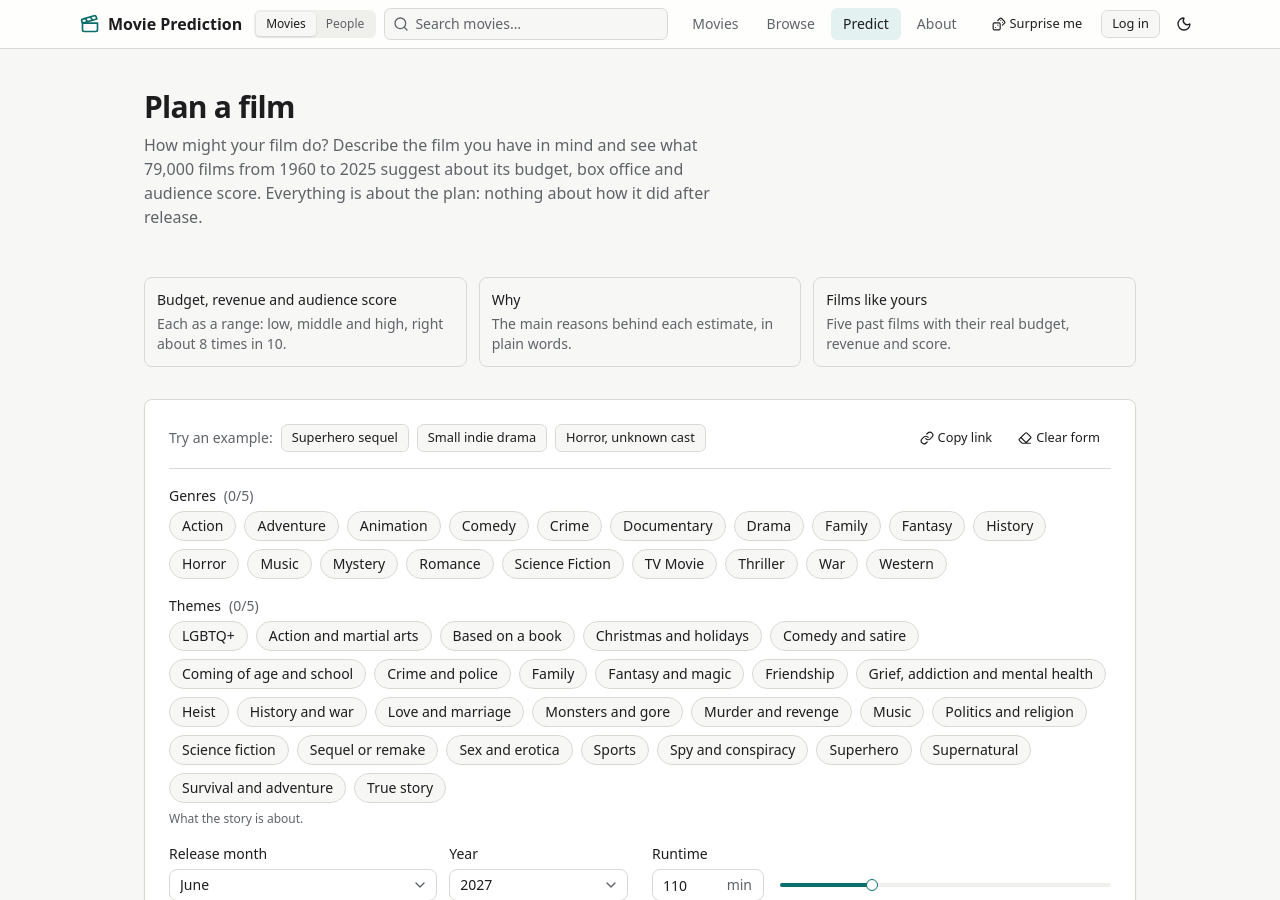
examples › "Small indie drama" fills the form, and submitting sends its body and opens the result
The width and height of the screenshot is (1280, 900).
Click the button "Small indie drama": (482, 438) [417,424,547,452]
(page scrolled)
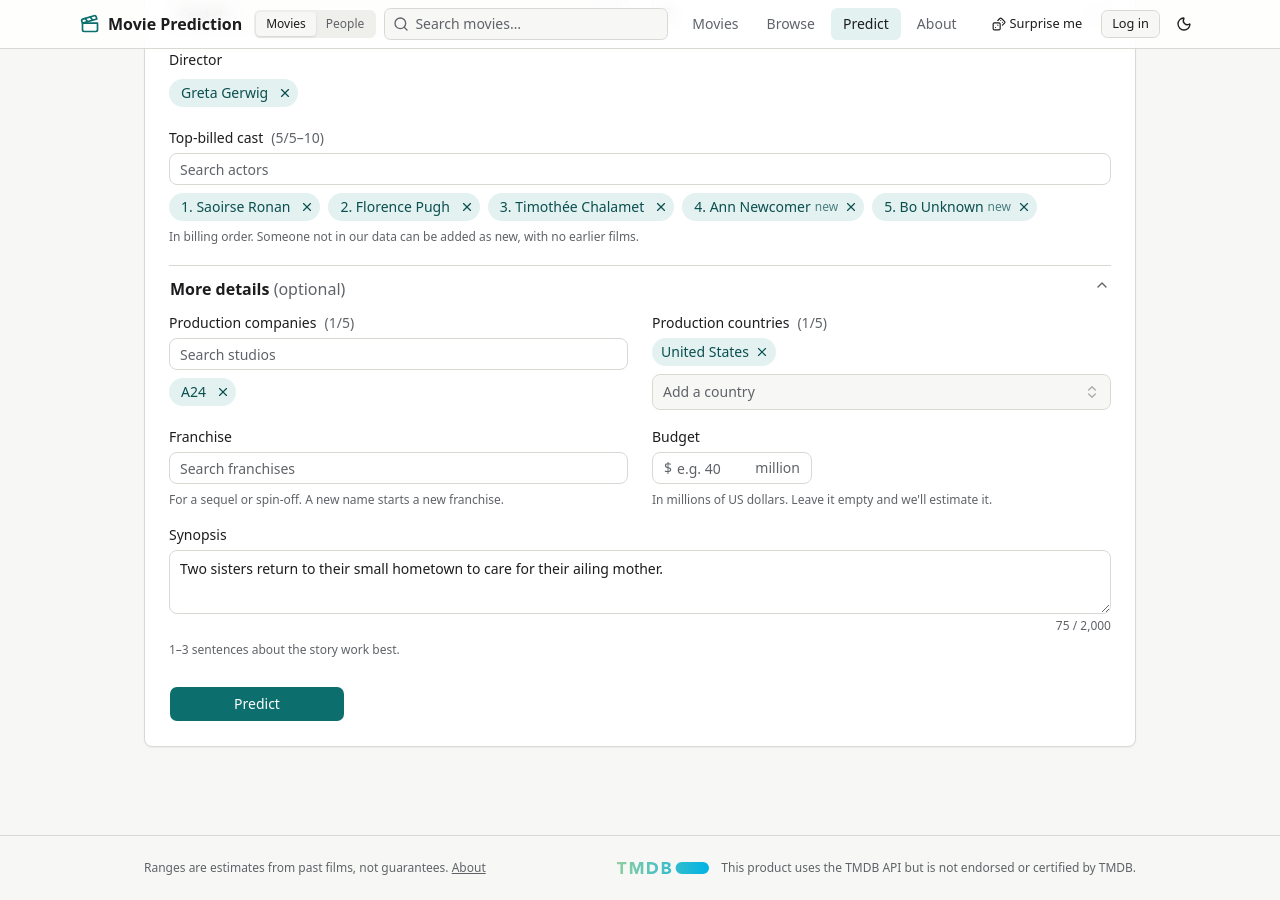
Expected: the button named "Remove Greta Gerwig" is shown, [276,84,294,102]
Click the button "Predict": (257, 704) [169,686,345,722]
(page scrolled)
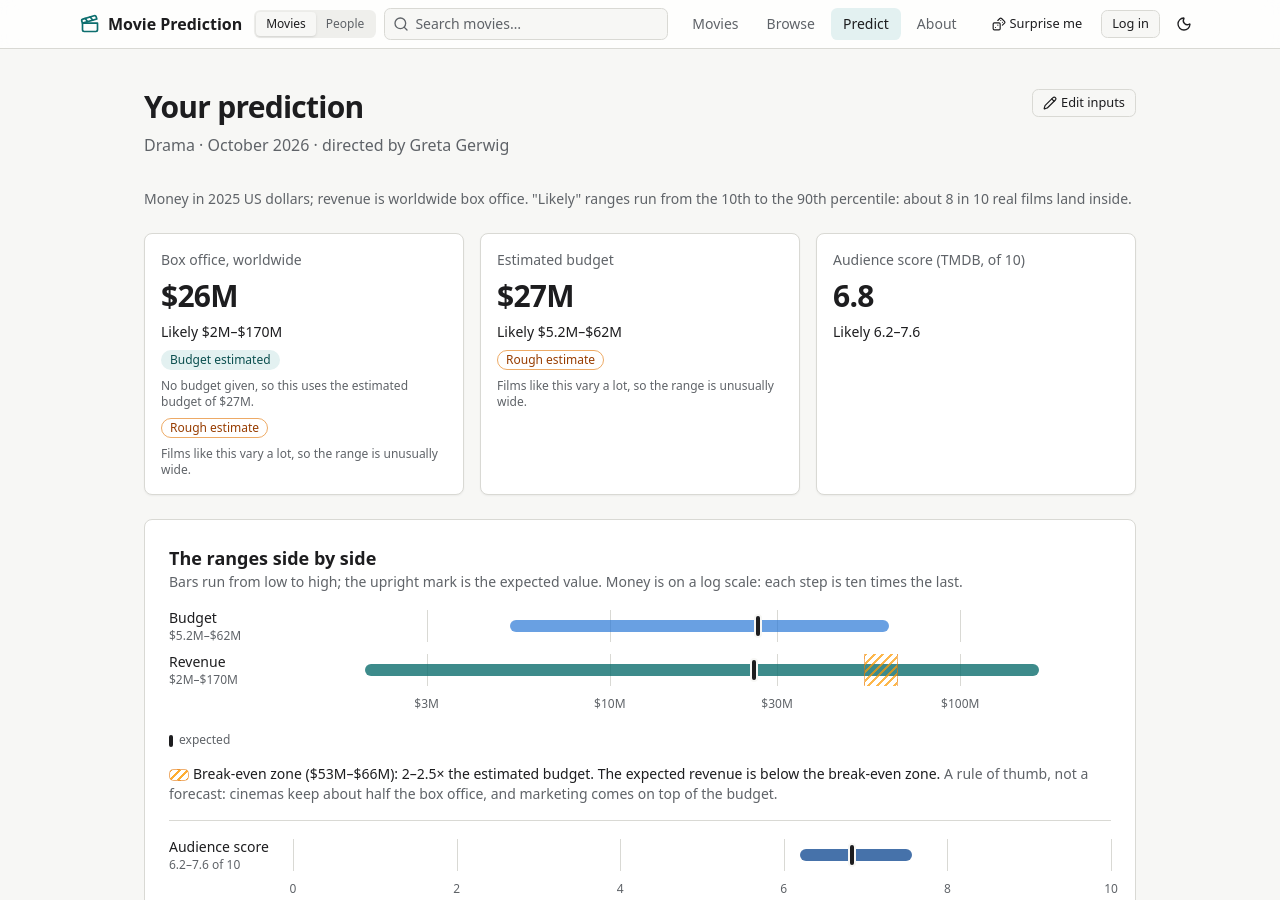
Expected: the element with test id "card-revenue" shows "$26M", [161,275,238,316]
